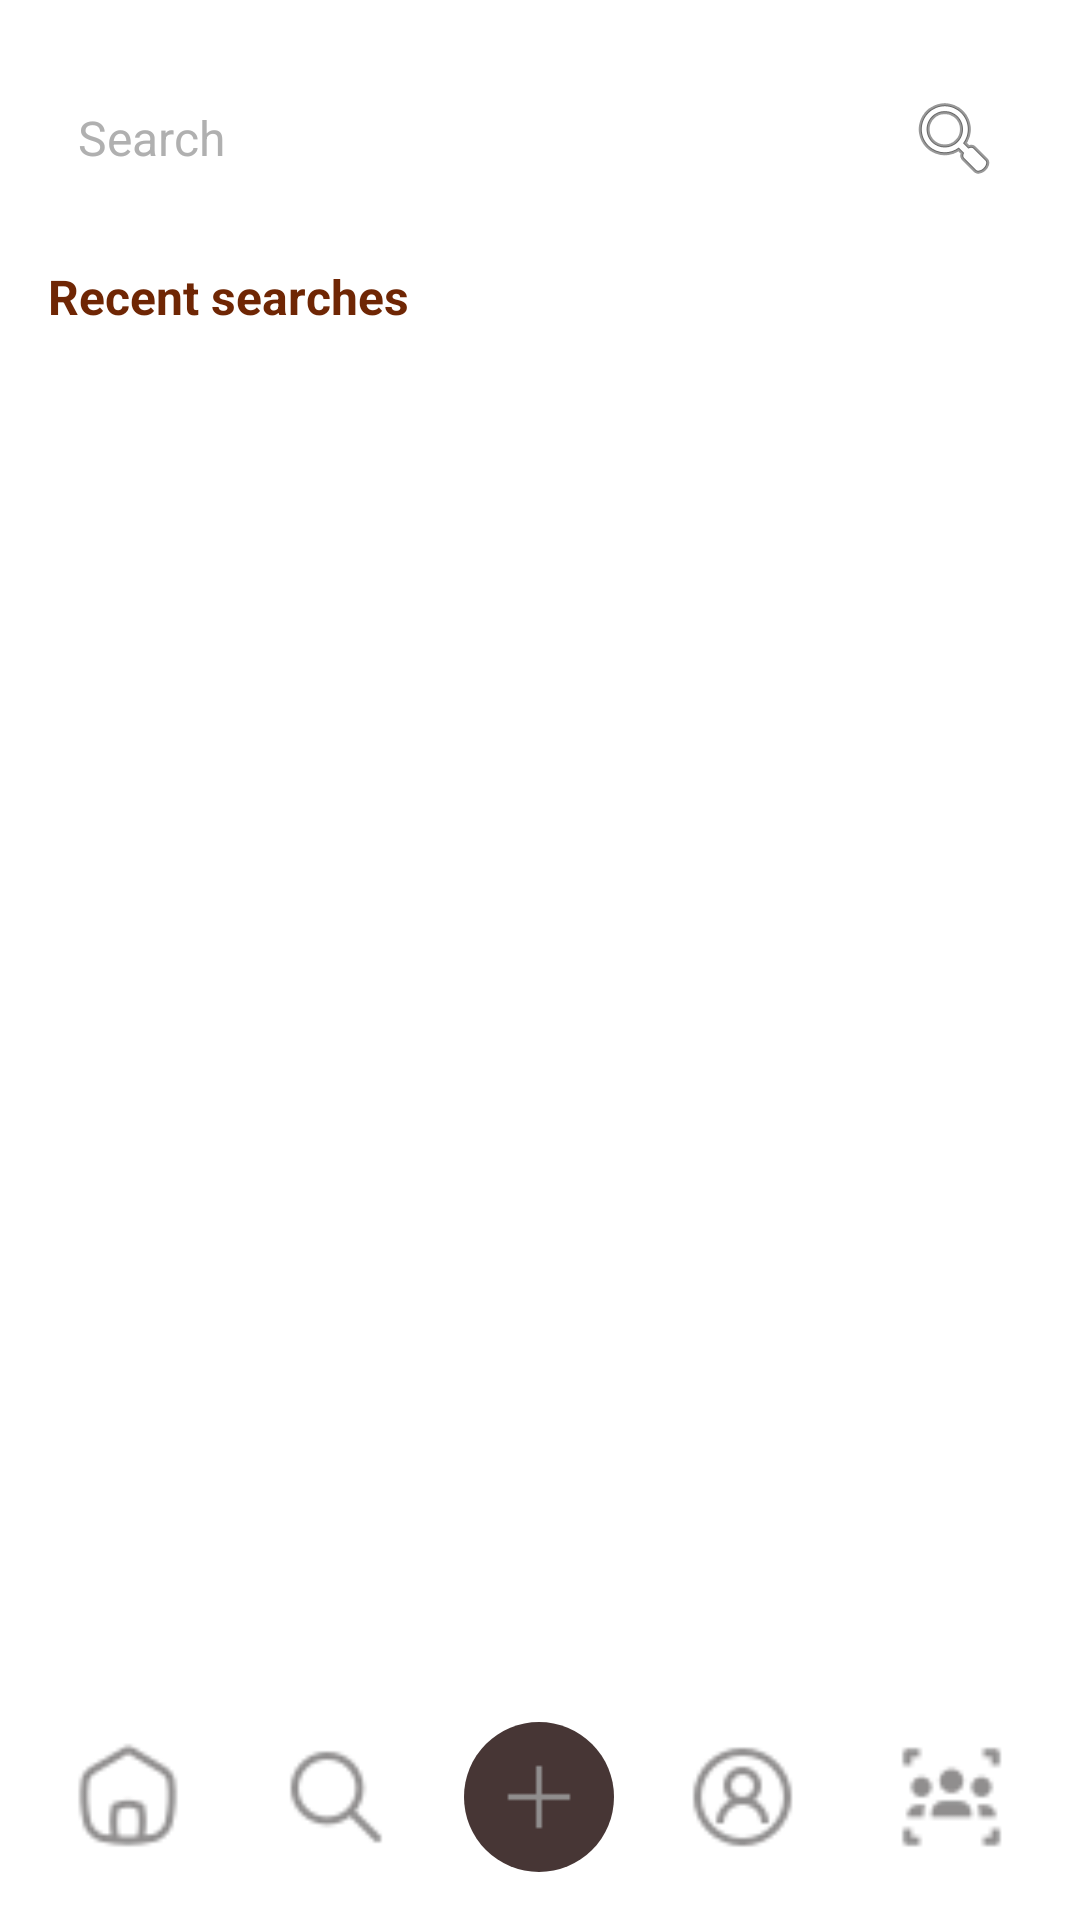

Named icons in this screenshot (1080×1920) and their bounding boxes, BBox(x1, y1, x2, y2):
addbtn: BBox(464, 1722, 614, 1872)
contacts: BBox(902, 1747, 1001, 1847)
home: BBox(79, 1745, 177, 1847)
profile: BBox(693, 1747, 792, 1847)
